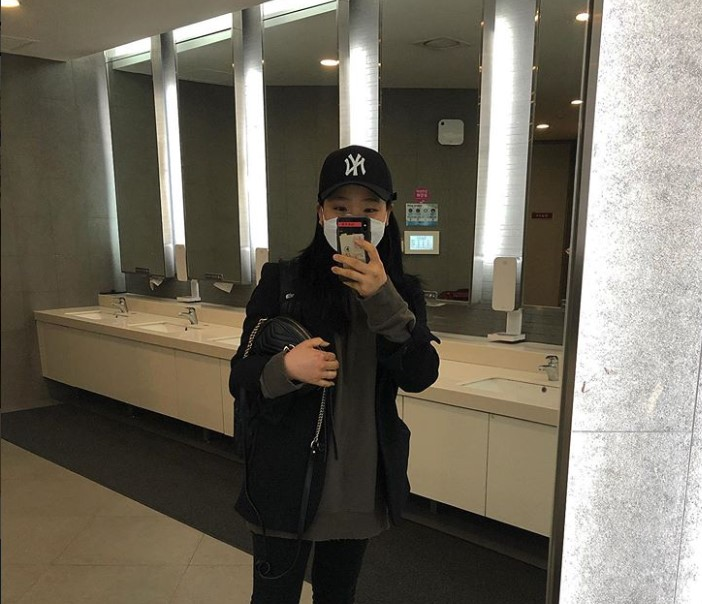face_with_mask: (319, 149, 390, 255)
